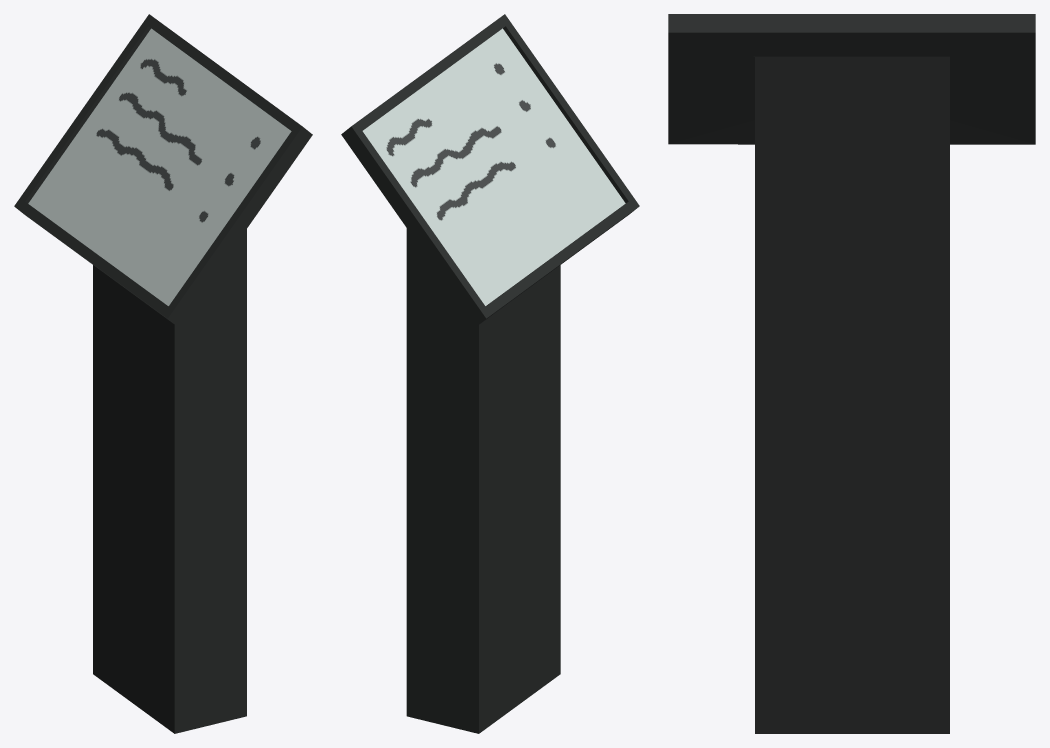
File: Terminal.fbx
3 views of the same model, side by side, from view 1: azimuth 30°, elevation 25°; view 2: azimuth 150°, elevation 25°; view 3: azimuth 270°, elevation 25° (orthographic). The views are drawn at different scales.
Visible parts, largest first — view 1: Cube; view 2: Cube; view 3: Cube.
Boxes of the visible parts, x1,y1,x2,y2 form: Cube: [14, 14, 312, 733]; Cube: [341, 14, 639, 733]; Cube: [668, 14, 1035, 733].
Size of the model in its own units: 28.02 by 113 by 51.33.
